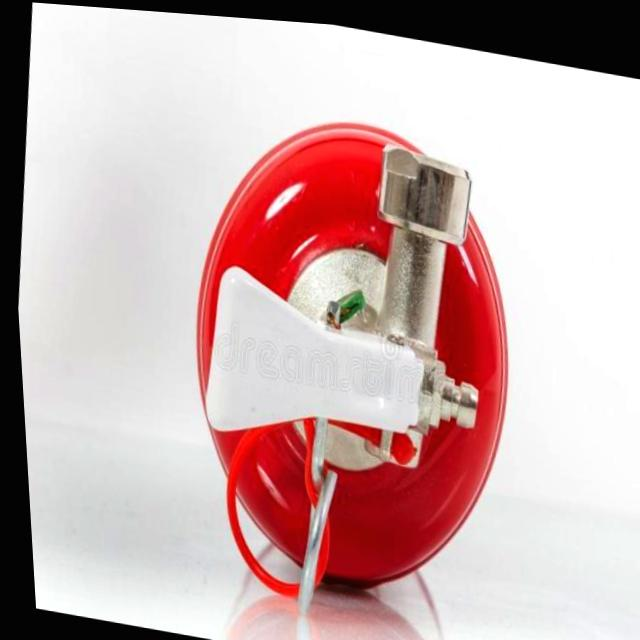FireExtinguisher: (148, 82, 548, 640)
